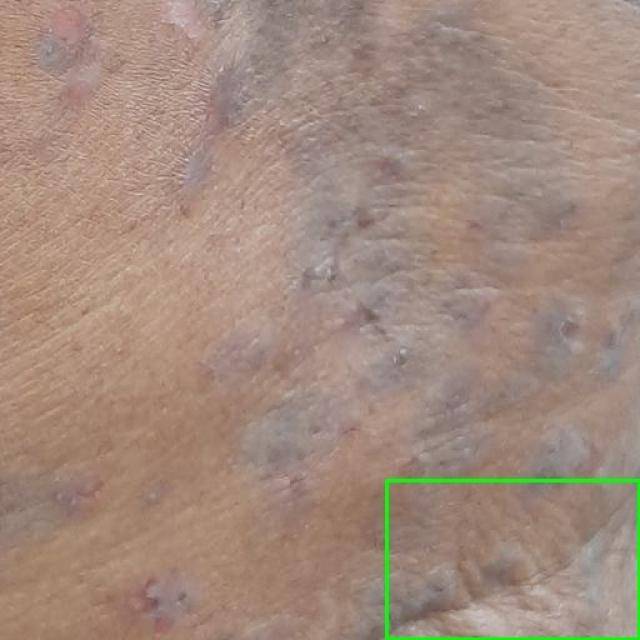Contact Dermatitis: (386, 480, 639, 639)
